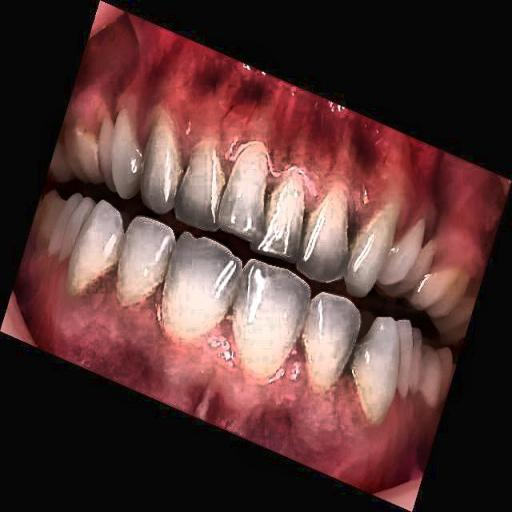Healthy: (47, 14, 438, 430)
